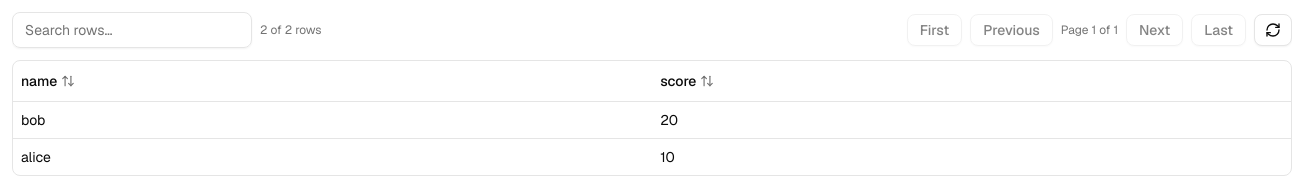
Test: CSVViewer › sorts numerically when a column header is clicked
This screenshot has width=1304, height=193.
Check: the text "bob" is shown, box top-left (21, 110), bottom-right (45, 128)
Step 1. Click the text "score" → click(678, 81), box top-left (660, 71), bottom-right (696, 91)
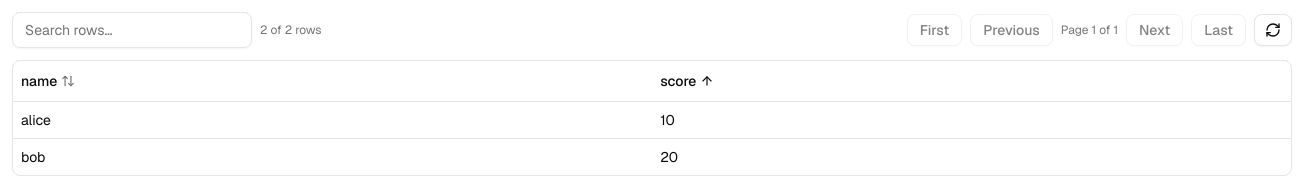
Check: the text "alice" is shown, box top-left (21, 110), bottom-right (51, 128)
